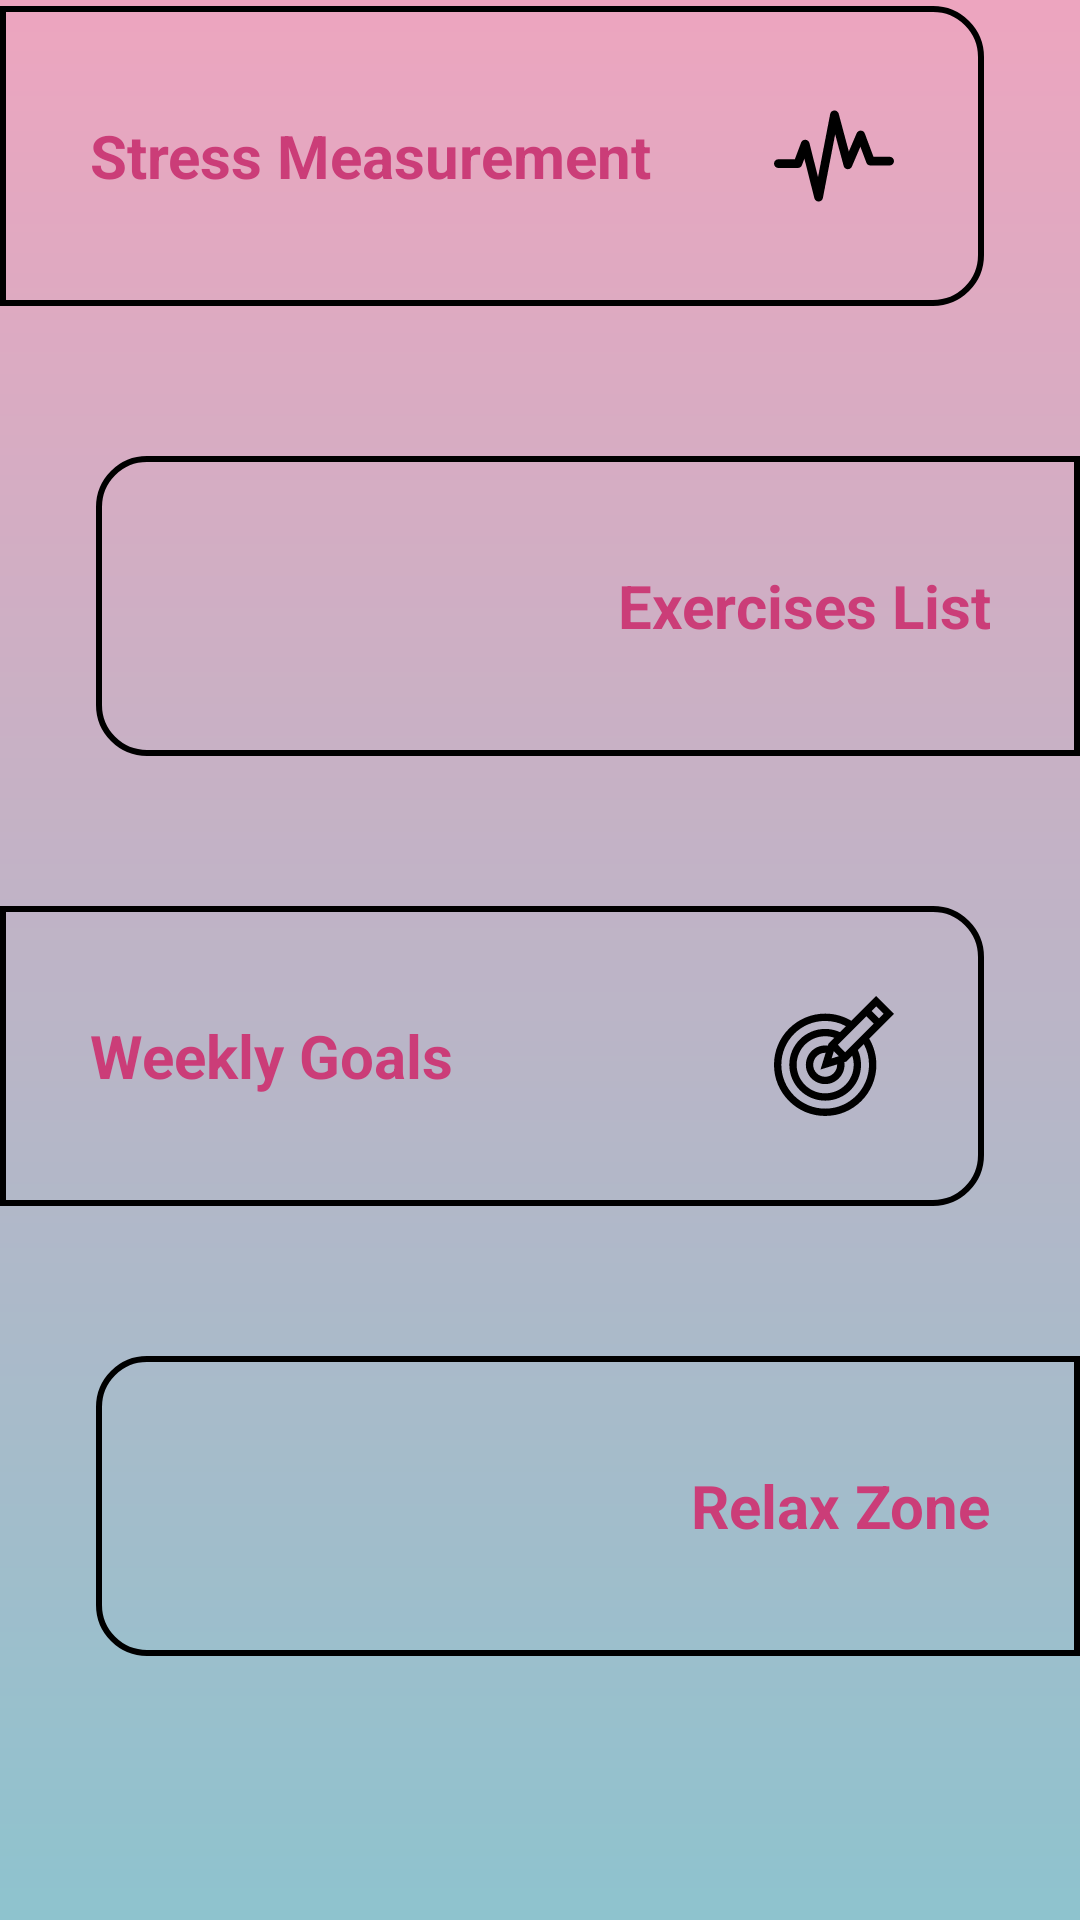

Where to tap for icons on this 1080 x 1920 app screen, as (x,y):
Ícone de Registos ECG: (834,156)
